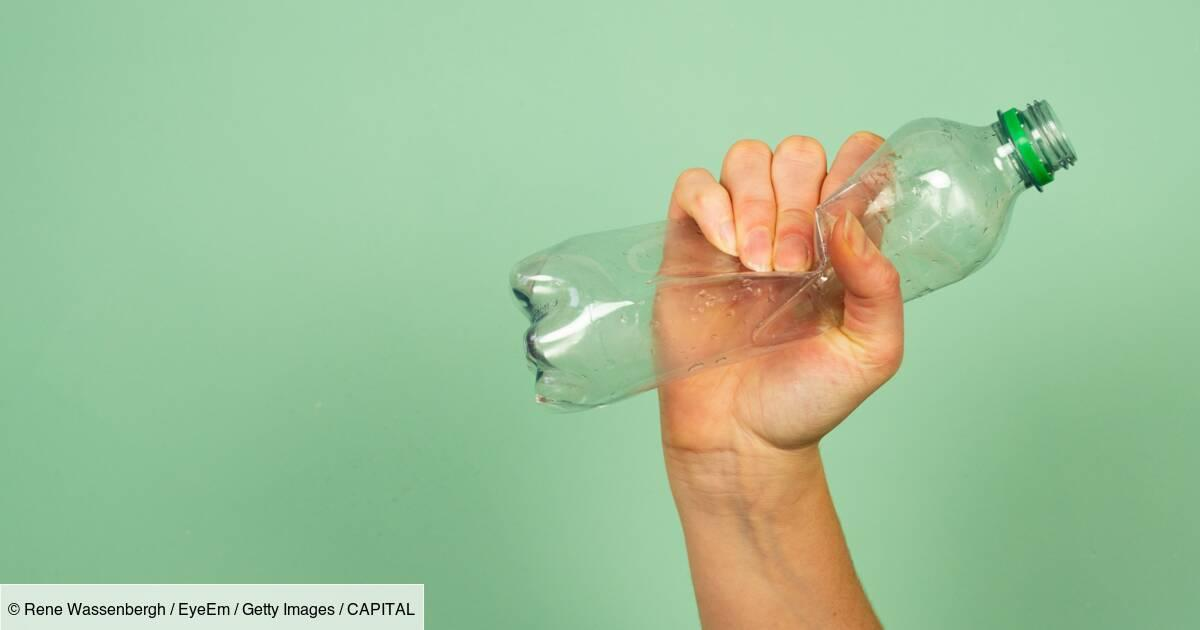Plastic: (477, 80, 1119, 431)
